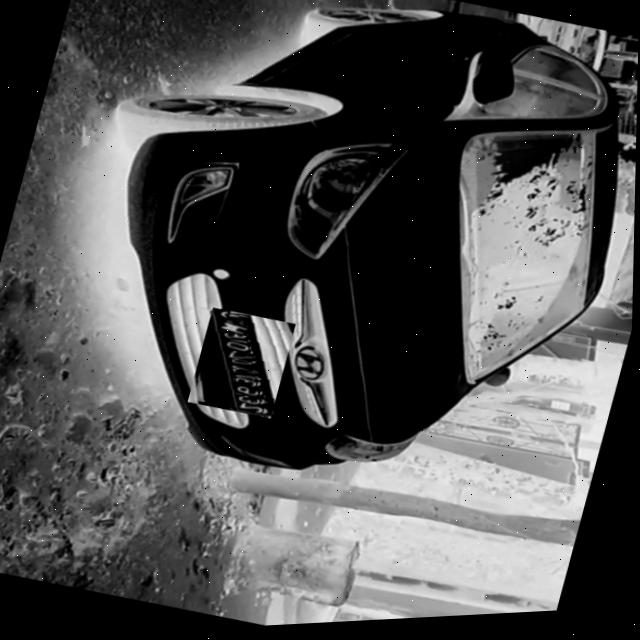0: (223, 340, 251, 357)
2: (239, 403, 265, 417)
3: (233, 377, 259, 392), (238, 396, 262, 410)
6: (236, 385, 262, 402)
7: (227, 351, 254, 365)
B: (229, 369, 256, 384)
C: (231, 360, 255, 374)
IND: (225, 314, 249, 332)
Indian_registered: (212, 312, 275, 419)
M: (218, 322, 249, 339)
P: (220, 331, 249, 348)
